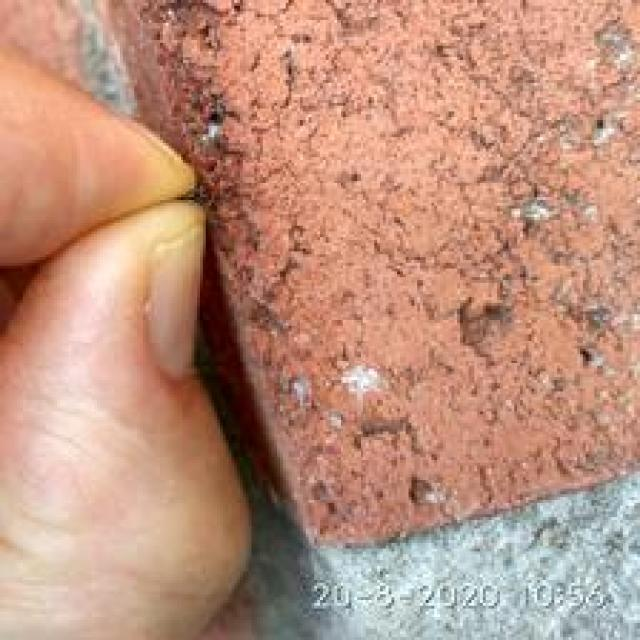Aedes albopictus: (88, 0, 640, 554)
